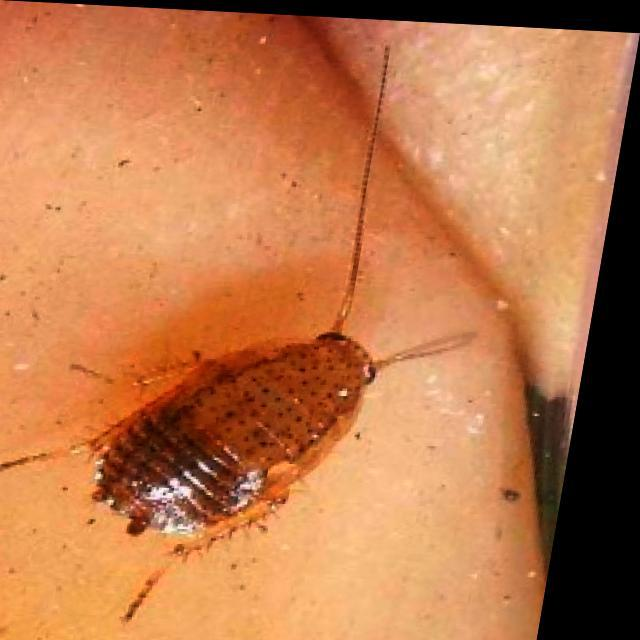cockroach: (87, 331, 377, 543)
